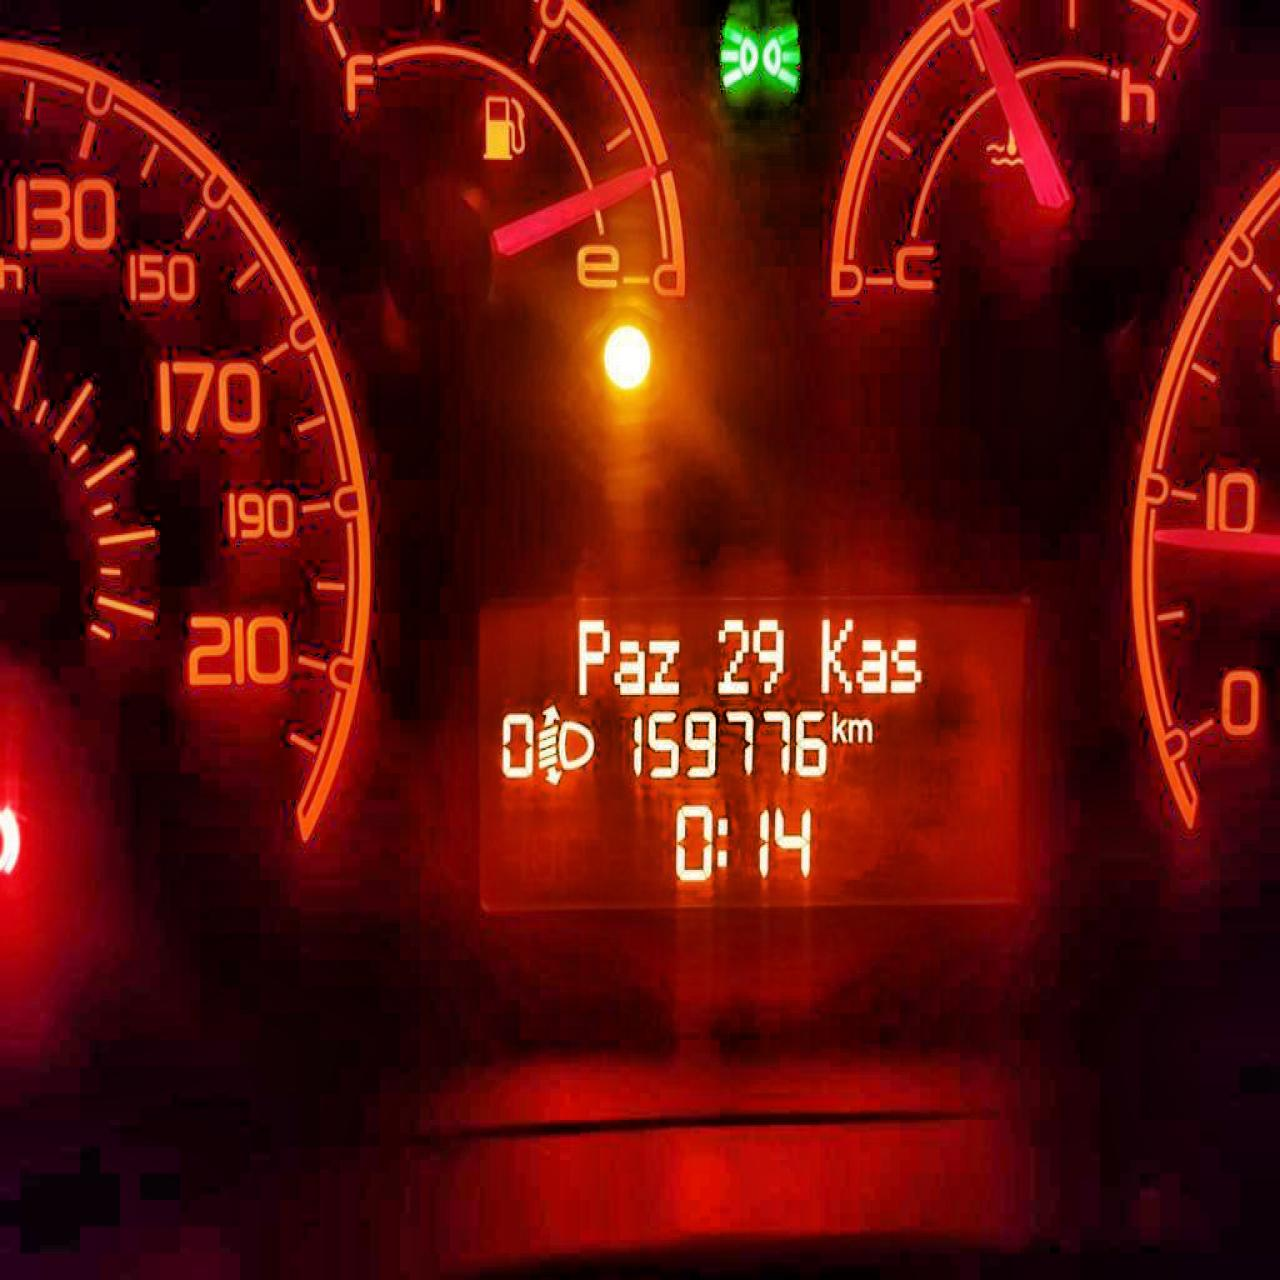0: (674, 799, 713, 884), (501, 708, 535, 778)
1: (755, 805, 770, 880), (629, 710, 644, 778)
2: (715, 615, 751, 696)
4: (774, 799, 811, 878)
5: (646, 707, 680, 781)
6: (795, 707, 828, 776)
7: (721, 703, 754, 777), (758, 704, 791, 774)
9: (751, 615, 788, 695), (682, 704, 717, 778)
X: (576, 615, 610, 696), (821, 612, 855, 693), (647, 635, 682, 696), (888, 636, 922, 693), (615, 635, 644, 696), (857, 636, 887, 692), (714, 809, 734, 873), (847, 715, 873, 747), (830, 707, 845, 745)
odometer: (468, 581, 1032, 924)
